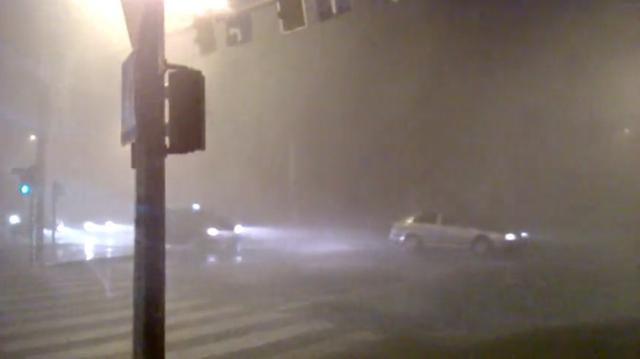car: (388, 206, 536, 260), (134, 199, 249, 248)
